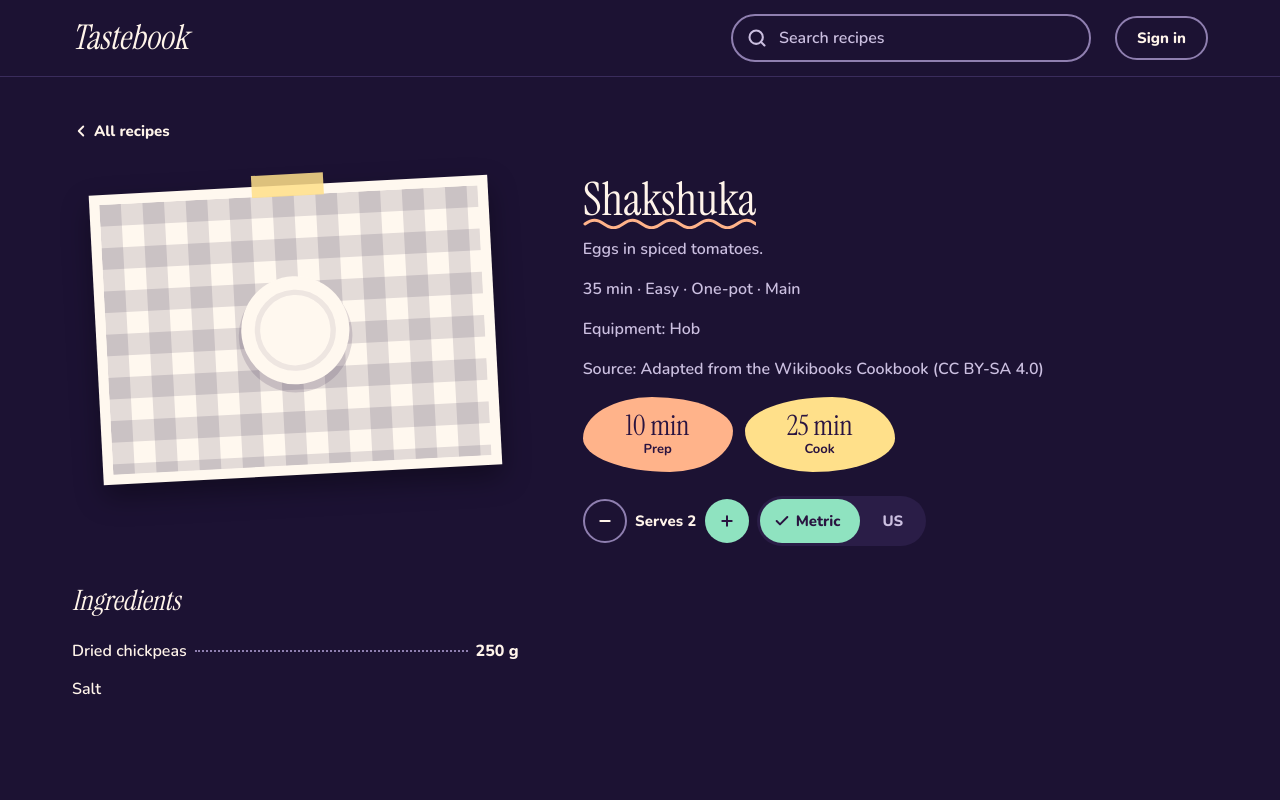
RecipePage › joins each ingredient to its amount, scaled with the servings, and shows a line with no amount by name alone
Click the button named "More servings".
click(727, 521)  # box [705, 499, 749, 543]
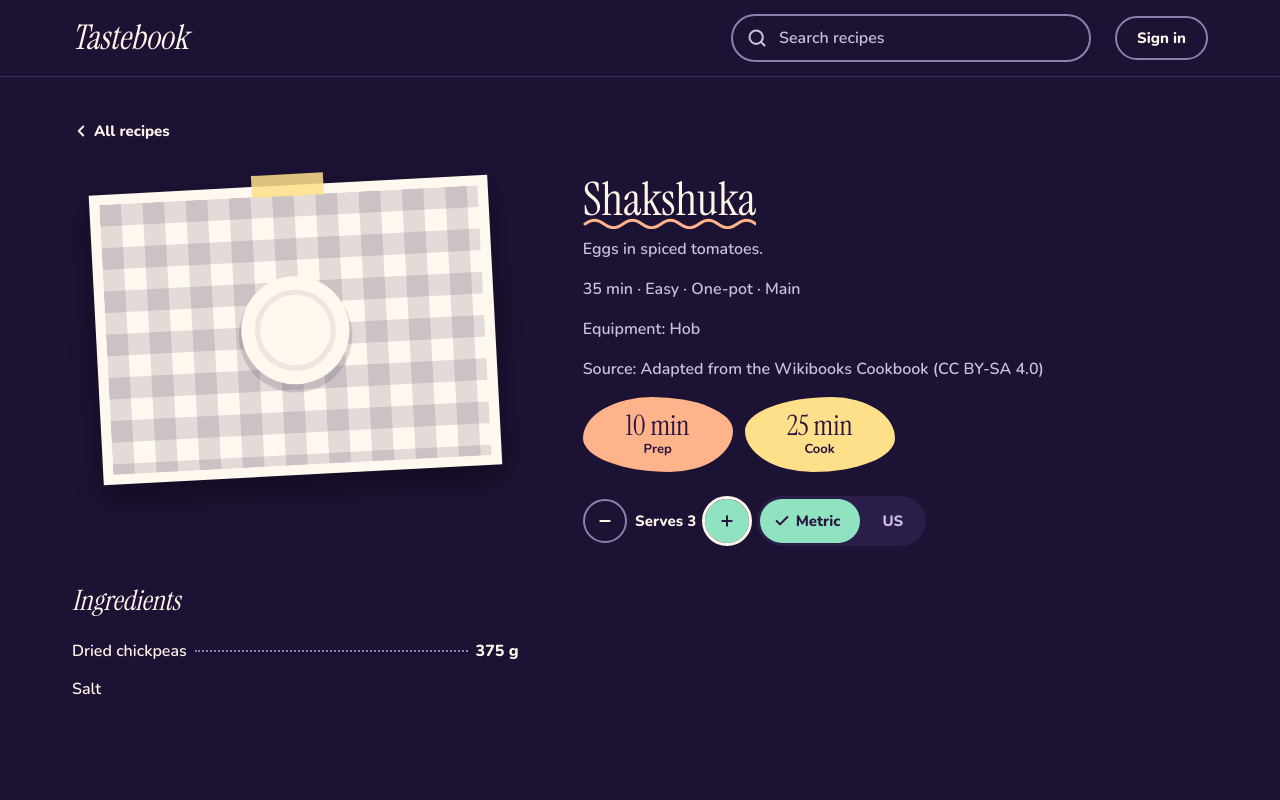
Click the button named "More servings".
click(727, 521)  # box [705, 499, 749, 543]
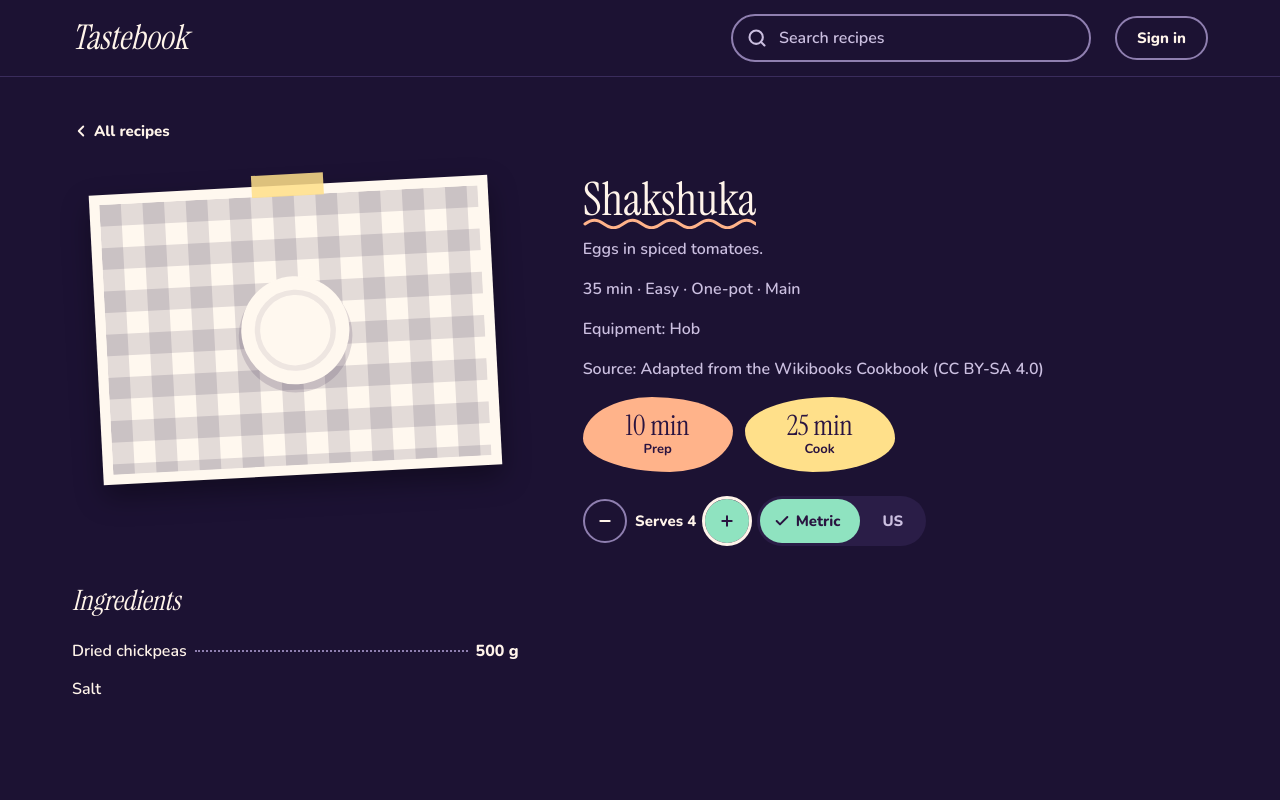
Expected: the text "Serves 4" is shown, [635, 511, 697, 531]
